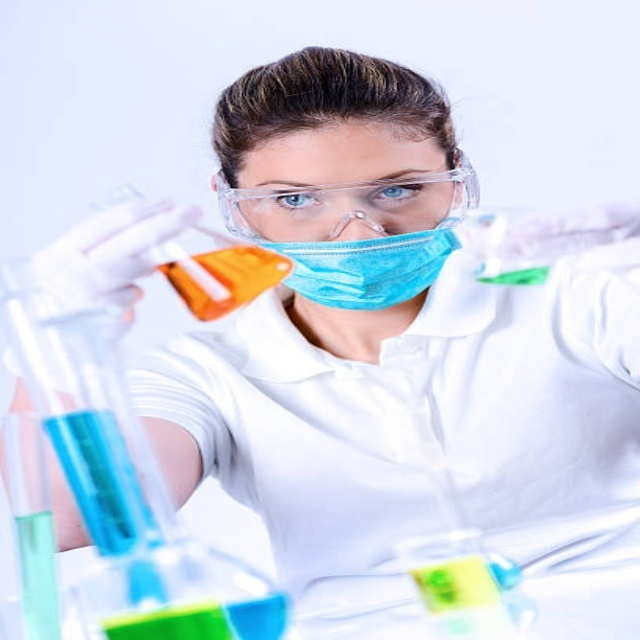Gafas: (215, 155, 481, 243)
Guantes: (14, 184, 195, 384)
Mascara: (242, 210, 472, 311)
